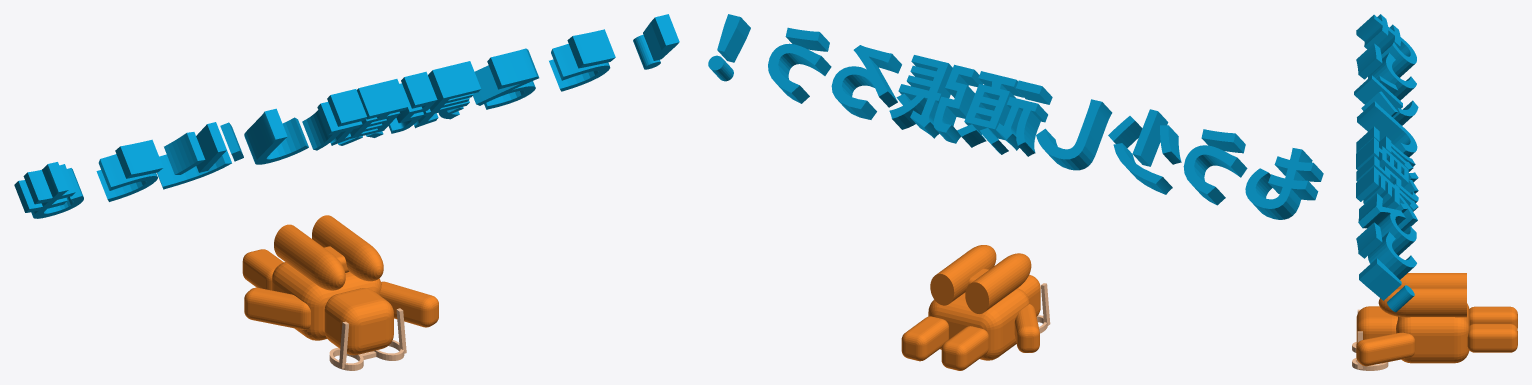
Rendered from tinker.obj.
3 views of the same model, side by side, from view 1: azimuth 30°, elevation 25°; view 2: azimuth 150°, elevation 25°; view 3: azimuth 270°, elevation 25° (orthographic). The views are drawn at different scales.
Visible parts, largest first — view 1: group_0_40919, group_0_16089887, group_0_16500122; view 2: group_0_40919, group_0_16089887; view 3: group_0_40919, group_0_16089887, group_0_16500122.
Part boxes in pixels (x1,y1,x2,y2): group_0_40919: [14, 14, 679, 218]; group_0_16089887: [242, 215, 438, 355]; group_0_16500122: [329, 308, 406, 370]; group_0_40919: [708, 14, 1323, 219]; group_0_16089887: [901, 245, 1040, 370]; group_0_40919: [1354, 14, 1418, 312]; group_0_16089887: [1356, 273, 1517, 366]; group_0_16500122: [1352, 309, 1388, 370].
Size of the model in its own units: 237 by 95.44 by 65.24.
